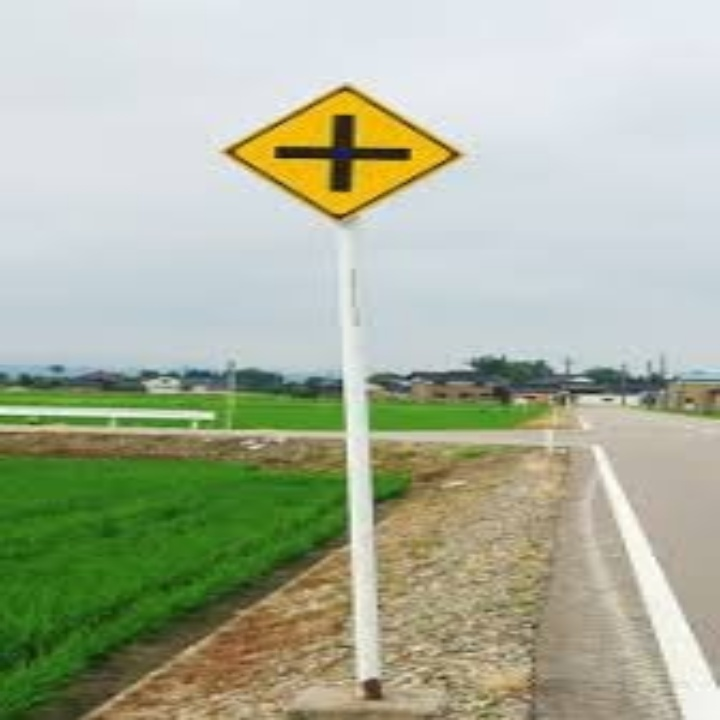inter: (267, 107, 423, 197)
